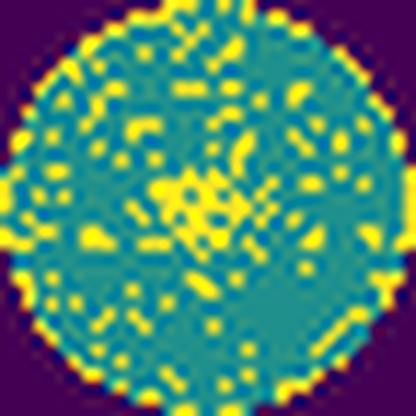Center: (151, 174, 252, 264)
